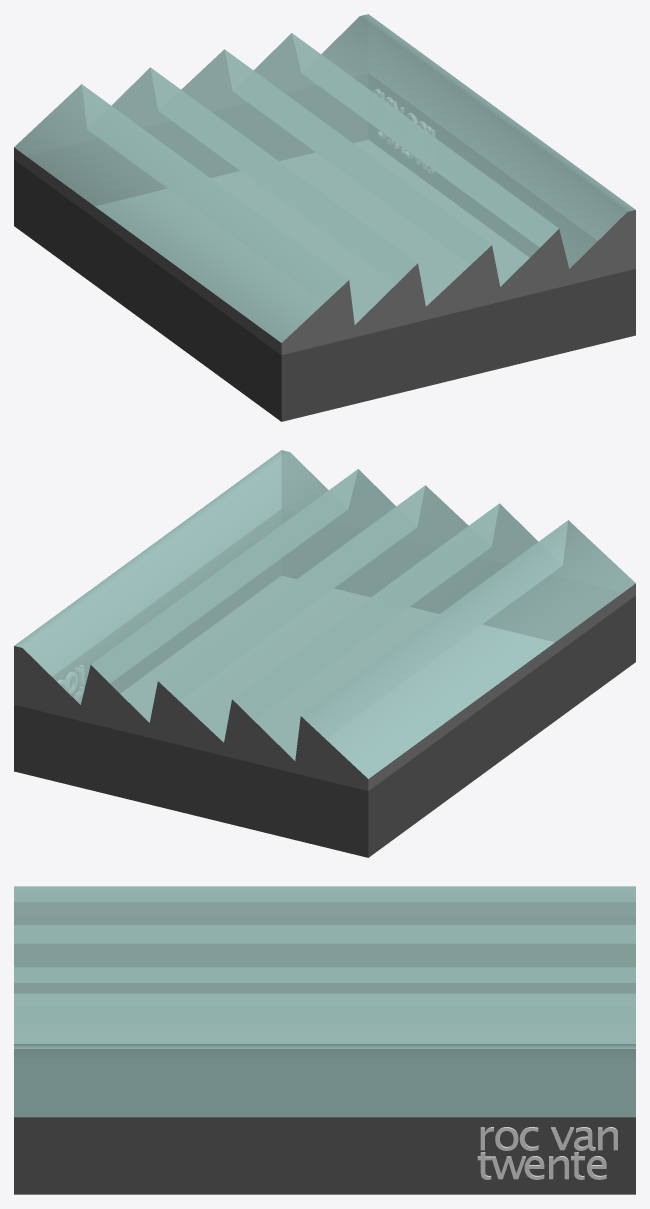
File: GLASS triangle.fbx
The picture shows the model from 3 angles, top to bottom: view 1: azimuth 30°, elevation 25°; view 2: azimuth 150°, elevation 25°; view 3: azimuth 270°, elevation 25°; orthographic projection. The views are drawn at different scales.
Parts seen in each view (by area): view 1: pCube2; view 2: pCube2; view 3: pCube2.
Boxes of the visible parts, x1,y1,x2,y2 form: pCube2: [14, 14, 635, 421]; pCube2: [14, 450, 635, 857]; pCube2: [14, 886, 635, 1194].
Size of the model in its own units: 37.11 by 12.5 by 48.28.
